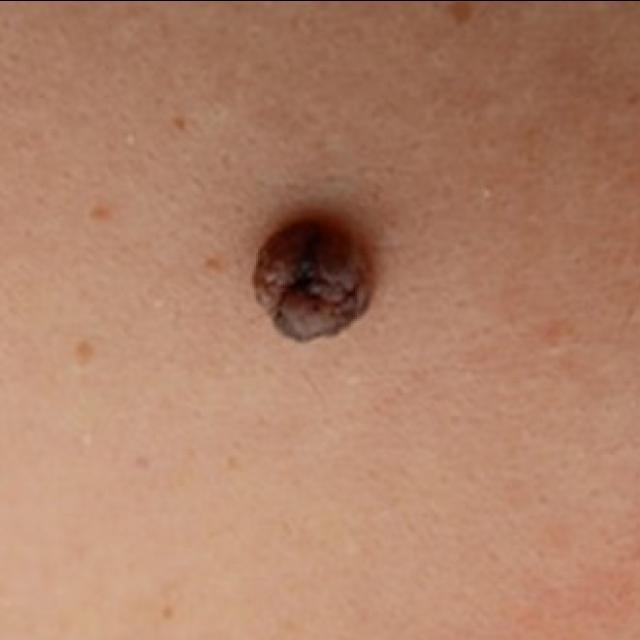wart: (250, 205, 376, 344)
